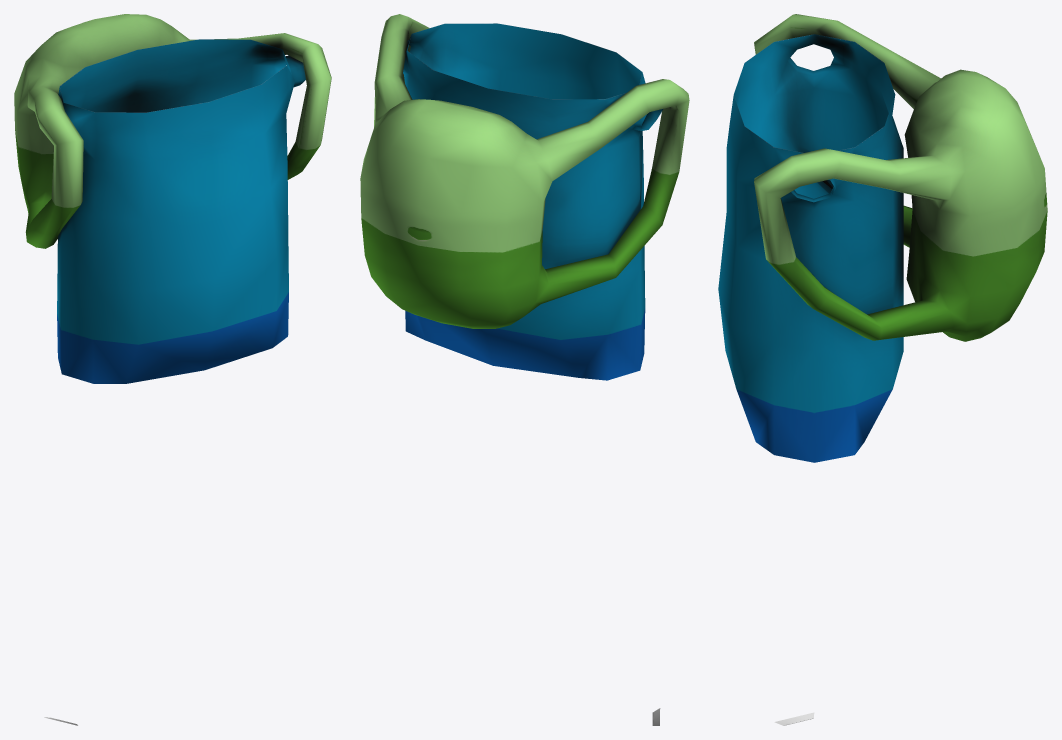
The model's file is cuerpofinn.obj.
3 renders of one model, left to right at view 1: azimuth 30°, elevation 25°; view 2: azimuth 150°, elevation 25°; view 3: azimuth 270°, elevation 25°, orthographic. The views are drawn at different scales.
Visible parts, largest first — view 1: cuepoFinn_Material.001; view 2: cuepoFinn_Material.001; view 3: cuepoFinn_Material.001.
Boxes of the visible parts, left/top/right/bottom form: cuepoFinn_Material.001: left=14, top=14, right=331, bottom=725; cuepoFinn_Material.001: left=360, top=14, right=689, bottom=725; cuepoFinn_Material.001: left=718, top=14, right=1047, bottom=725.
Size of the model in its own units: 25.04 by 52.28 by 22.25.
